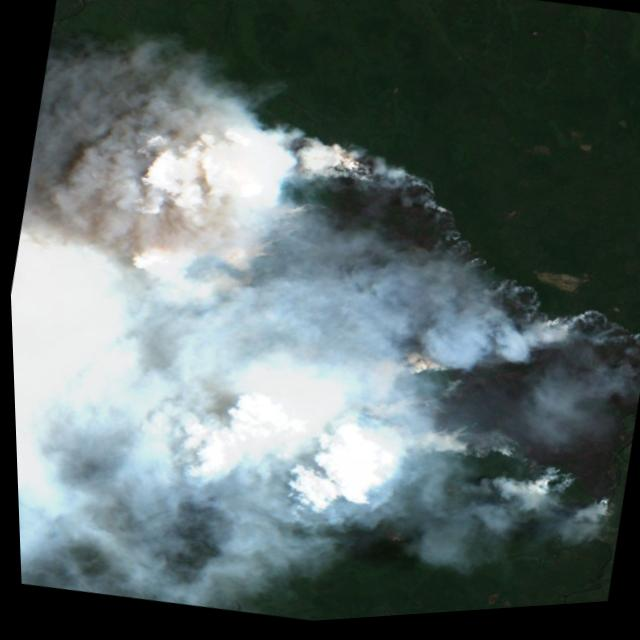fire: (169, 119, 640, 546)
